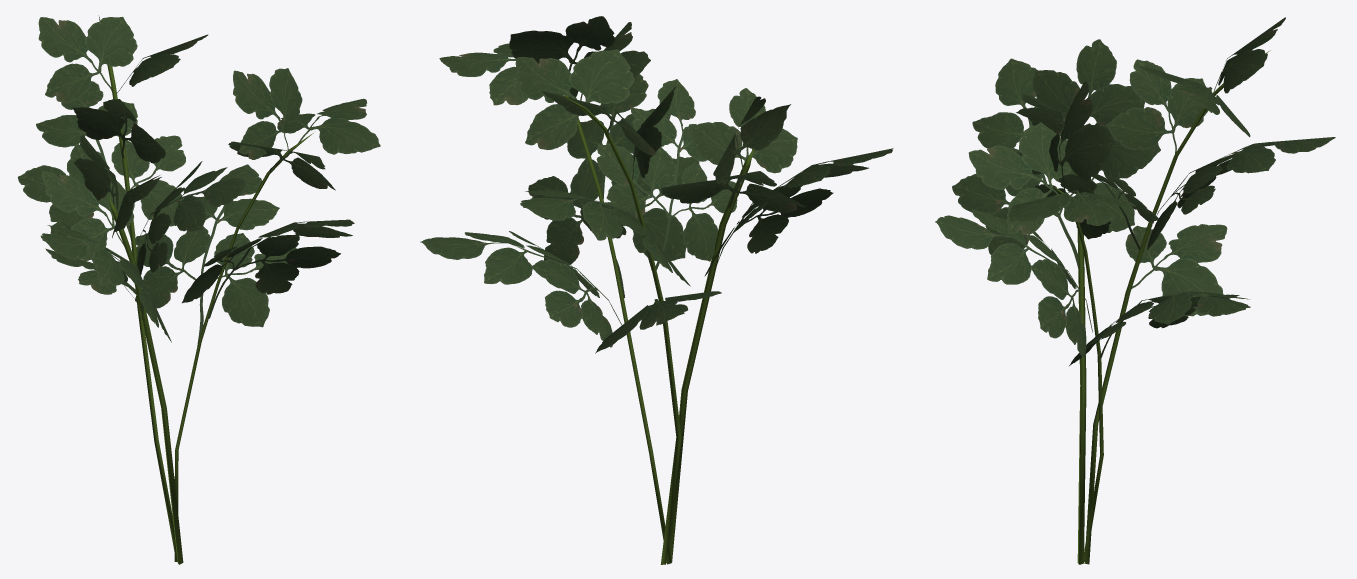
The model's file is MSH_fwOF_ForestPlant_B_04.fbx.
The picture shows the model from 3 angles, left to right: view 1: azimuth 30°, elevation 25°; view 2: azimuth 150°, elevation 25°; view 3: azimuth 270°, elevation 25°; orthographic projection. The views are drawn at different scales.
Parts seen in each view (by area): view 1: MSH_fwOF_ForestPlant_B_04; view 2: MSH_fwOF_ForestPlant_B_04; view 3: MSH_fwOF_ForestPlant_B_04.
Part boxes in pixels (bbox=[...]): MSH_fwOF_ForestPlant_B_04: bbox=[17, 15, 380, 564]; MSH_fwOF_ForestPlant_B_04: bbox=[420, 16, 893, 564]; MSH_fwOF_ForestPlant_B_04: bbox=[935, 17, 1335, 564].
Bounding box in the file's own units: 0.429 × 0.5369 × 0.3832.
